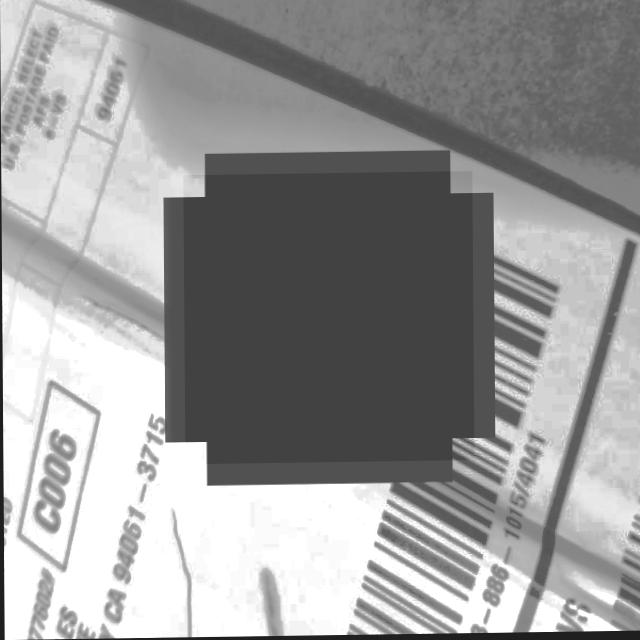qr_code: (183, 173, 474, 465)
